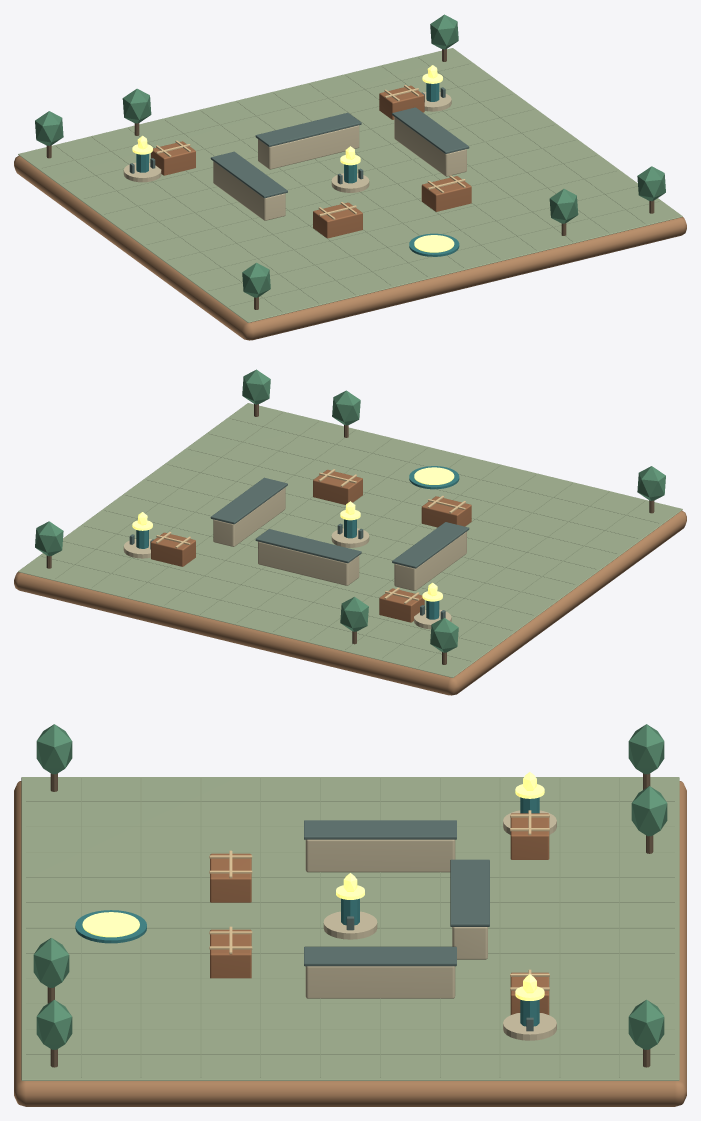
The model's file is arena-garden.glb.
3 views of the same model, one above another, from view 1: azimuth 30°, elevation 25°; view 2: azimuth 150°, elevation 25°; view 3: azimuth 270°, elevation 25° (orthographic). The views are drawn at different scales.
Parts seen in each view (by area): view 1: Tactical floor, Terrain island, Part__Grid garden, Part__Concrete garden, Part__Shrubs, Part__Railings, Crate body.003, Crate body.002, Crate body, Crate body.001, ExtractionGlow; view 2: Tactical floor, Terrain island, Part__Grid garden, Part__Concrete garden, Part__Shrubs, Part__Railings, Crate body.003, Crate body.002, Crate body.001, Crate body, ExtractionGlow; view 3: Tactical floor, Terrain island, Part__Concrete garden, Part__Grid garden, Part__Railings, Part__Shrubs, Crate body.003, Crate body.002, Crate body, ExtractionGlow, Beacon base.001, Beacon base.002 (+3 smaller).
Part boxes in pixels (x1=…): Tactical floor: x1=18, y1=48, x2=682, y2=322; Terrain island: x1=14, y1=155, x2=686, y2=340; Part__Grid garden: x1=41, y1=57, x2=659, y2=312; Part__Concrete garden: x1=213, y1=117, x2=466, y2=220; Part__Shrubs: x1=35, y1=14, x2=665, y2=297; Part__Railings: x1=210, y1=107, x2=469, y2=198; Crate body.003: x1=421, y1=176, x2=471, y2=211; Crate body.002: x1=313, y1=202, x2=362, y2=238; Crate body: x1=151, y1=141, x2=195, y2=175; Crate body.001: x1=379, y1=85, x2=424, y2=119; ExtractionGlow: x1=414, y1=235, x2=454, y2=252; Tactical floor: x1=18, y1=403, x2=682, y2=677; Terrain island: x1=14, y1=510, x2=686, y2=695; Part__Grid garden: x1=41, y1=412, x2=659, y2=667; Part__Concrete garden: x1=213, y1=487, x2=466, y2=590; Part__Shrubs: x1=35, y1=369, x2=665, y2=652; Part__Railings: x1=210, y1=477, x2=469, y2=568; Crate body.003: x1=313, y1=469, x2=362, y2=504; Crate body.002: x1=421, y1=496, x2=471, y2=527; Crate body.001: x1=151, y1=532, x2=195, y2=566; Crate body: x1=379, y1=588, x2=424, y2=622; ExtractionGlow: x1=414, y1=467, x2=454, y2=484; Tactical floor: x1=21, y1=777, x2=679, y2=1080; Terrain island: x1=14, y1=781, x2=686, y2=1106; Part__Concrete garden: x1=305, y1=839, x2=487, y2=998; Part__Grid garden: x1=26, y1=778, x2=674, y2=1077; Part__Railings: x1=304, y1=820, x2=489, y2=966; Part__Shrubs: x1=33, y1=724, x2=667, y2=1049; Crate body.003: x1=210, y1=929, x2=251, y2=978; Crate body.002: x1=210, y1=853, x2=251, y2=902; Crate body: x1=510, y1=813, x2=549, y2=859; ExtractionGlow: x1=82, y1=912, x2=139, y2=937; Beacon base.001: x1=503, y1=1013, x2=556, y2=1040; Beacon base.002: x1=323, y1=911, x2=377, y2=939.
Bounding box in the file's own units: 24.5 × 3.5 × 22.5.
